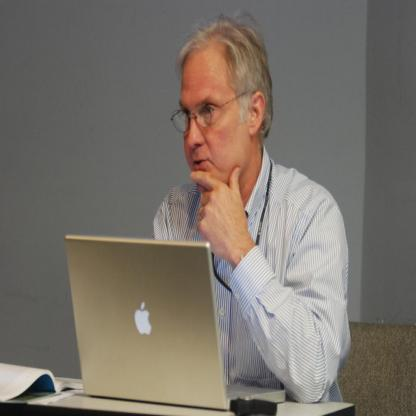board: (61, 163, 340, 401)
